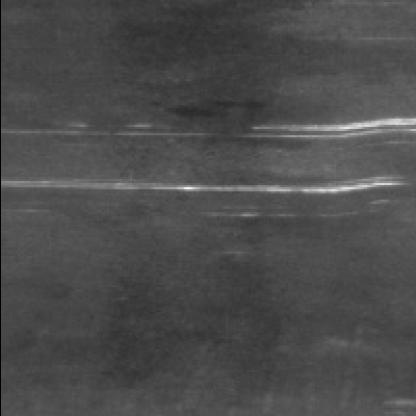scratches: (4, 160, 414, 198), (248, 104, 416, 143)
